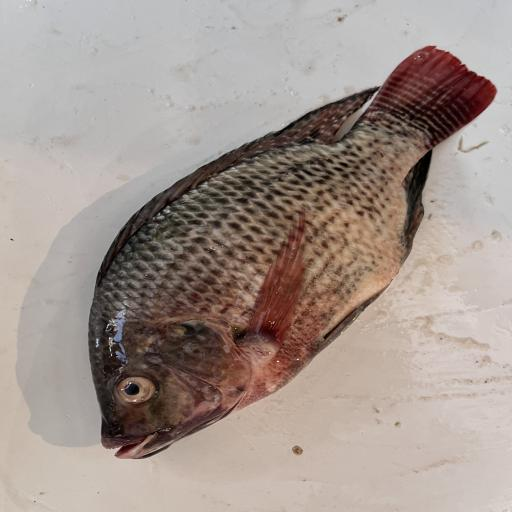Tilapia: (87, 45, 497, 460)
